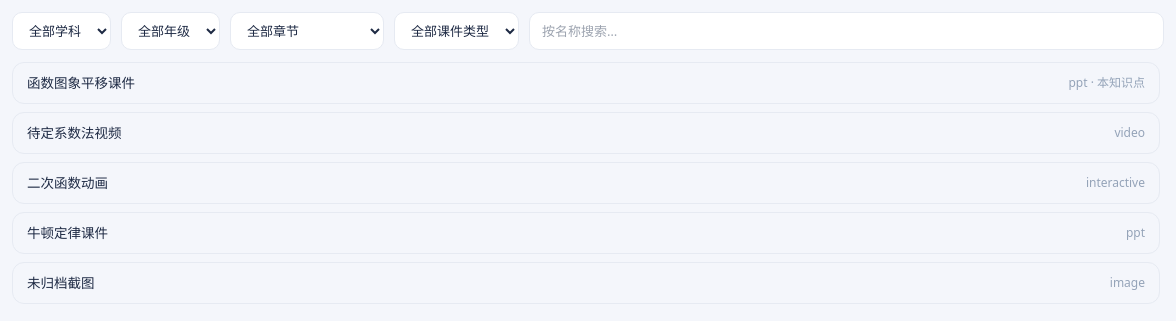
Scenario: GroupedPicker · 挂载课件场景(学科›年级›章节 + 类型) › 选学科=数学 → 年级下拉只出现初二/初三,列表收窄到数学
Select "数学" in the dropdown named "学科" at (62,31), box left=12, top=12, right=111, bottom=50
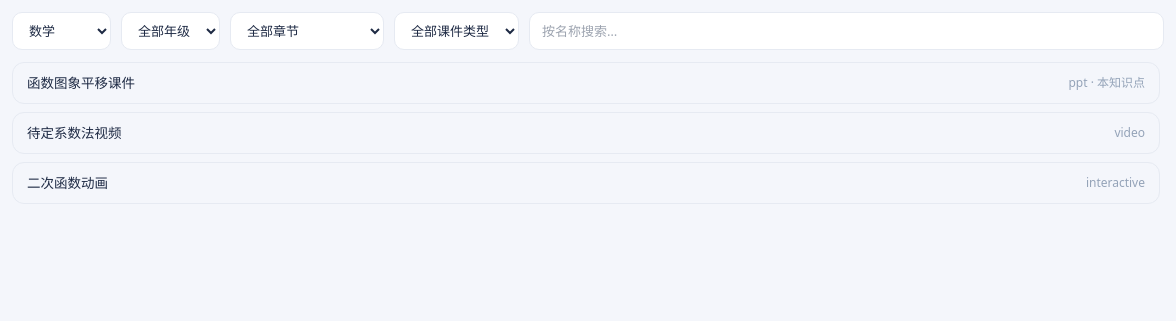
Expected: the text "待定系数法视频" is shown, left=27, top=123, right=122, bottom=143
Result: the text "牛顿定律课件" is gone
